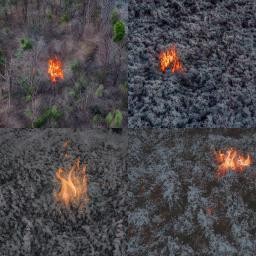Small fire: (44, 144, 102, 223), (150, 42, 194, 78), (39, 51, 72, 89)
